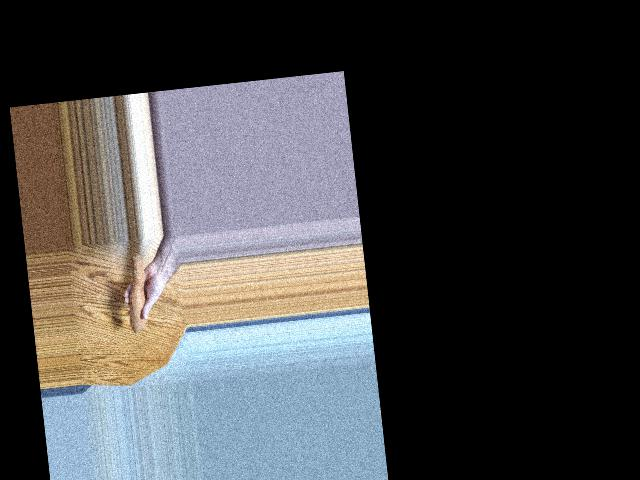sweet_potato: (120, 251, 152, 335)
